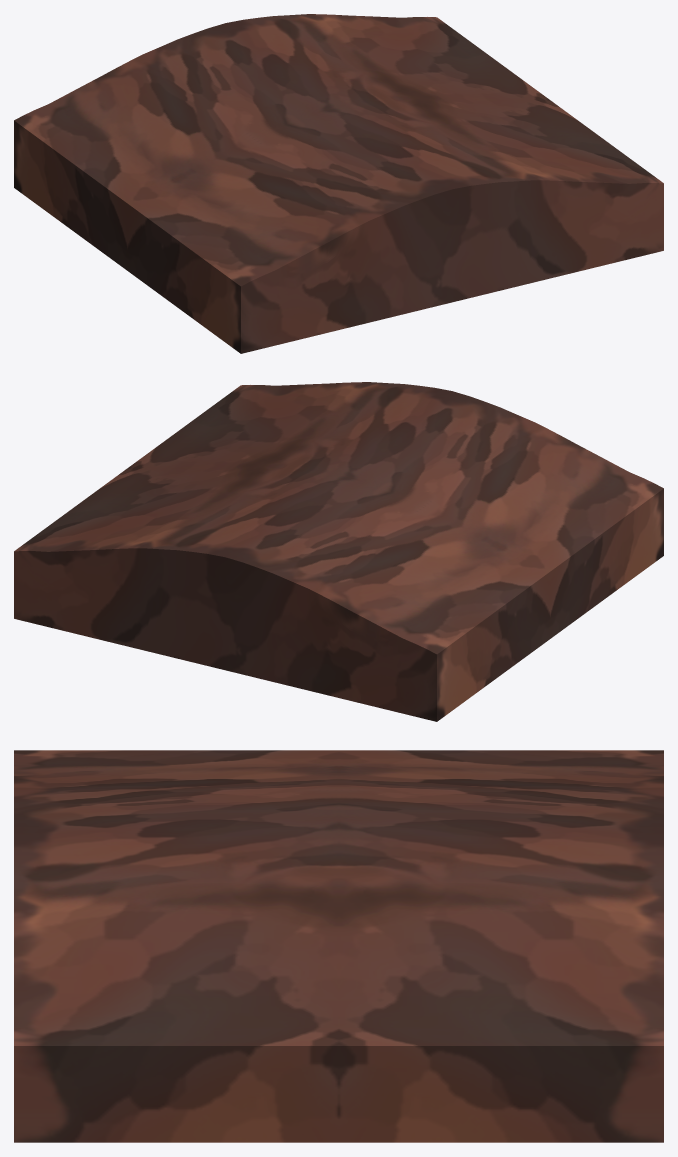
The model's file is Field_Unplowed.fbx.
The picture shows the model from 3 angles, top to bottom: view 1: azimuth 30°, elevation 25°; view 2: azimuth 150°, elevation 25°; view 3: azimuth 270°, elevation 25°; orthographic projection. The views are drawn at different scales.
Parts seen in each view (by area): view 1: Plowed_Field; view 2: Plowed_Field; view 3: Plowed_Field.
Part boxes in pixels (x1,y1,x2,y2): Plowed_Field: [14, 14, 663, 353]; Plowed_Field: [14, 382, 663, 721]; Plowed_Field: [14, 750, 663, 1142].
Size of the model in its own units: 394 by 101 by 367.
